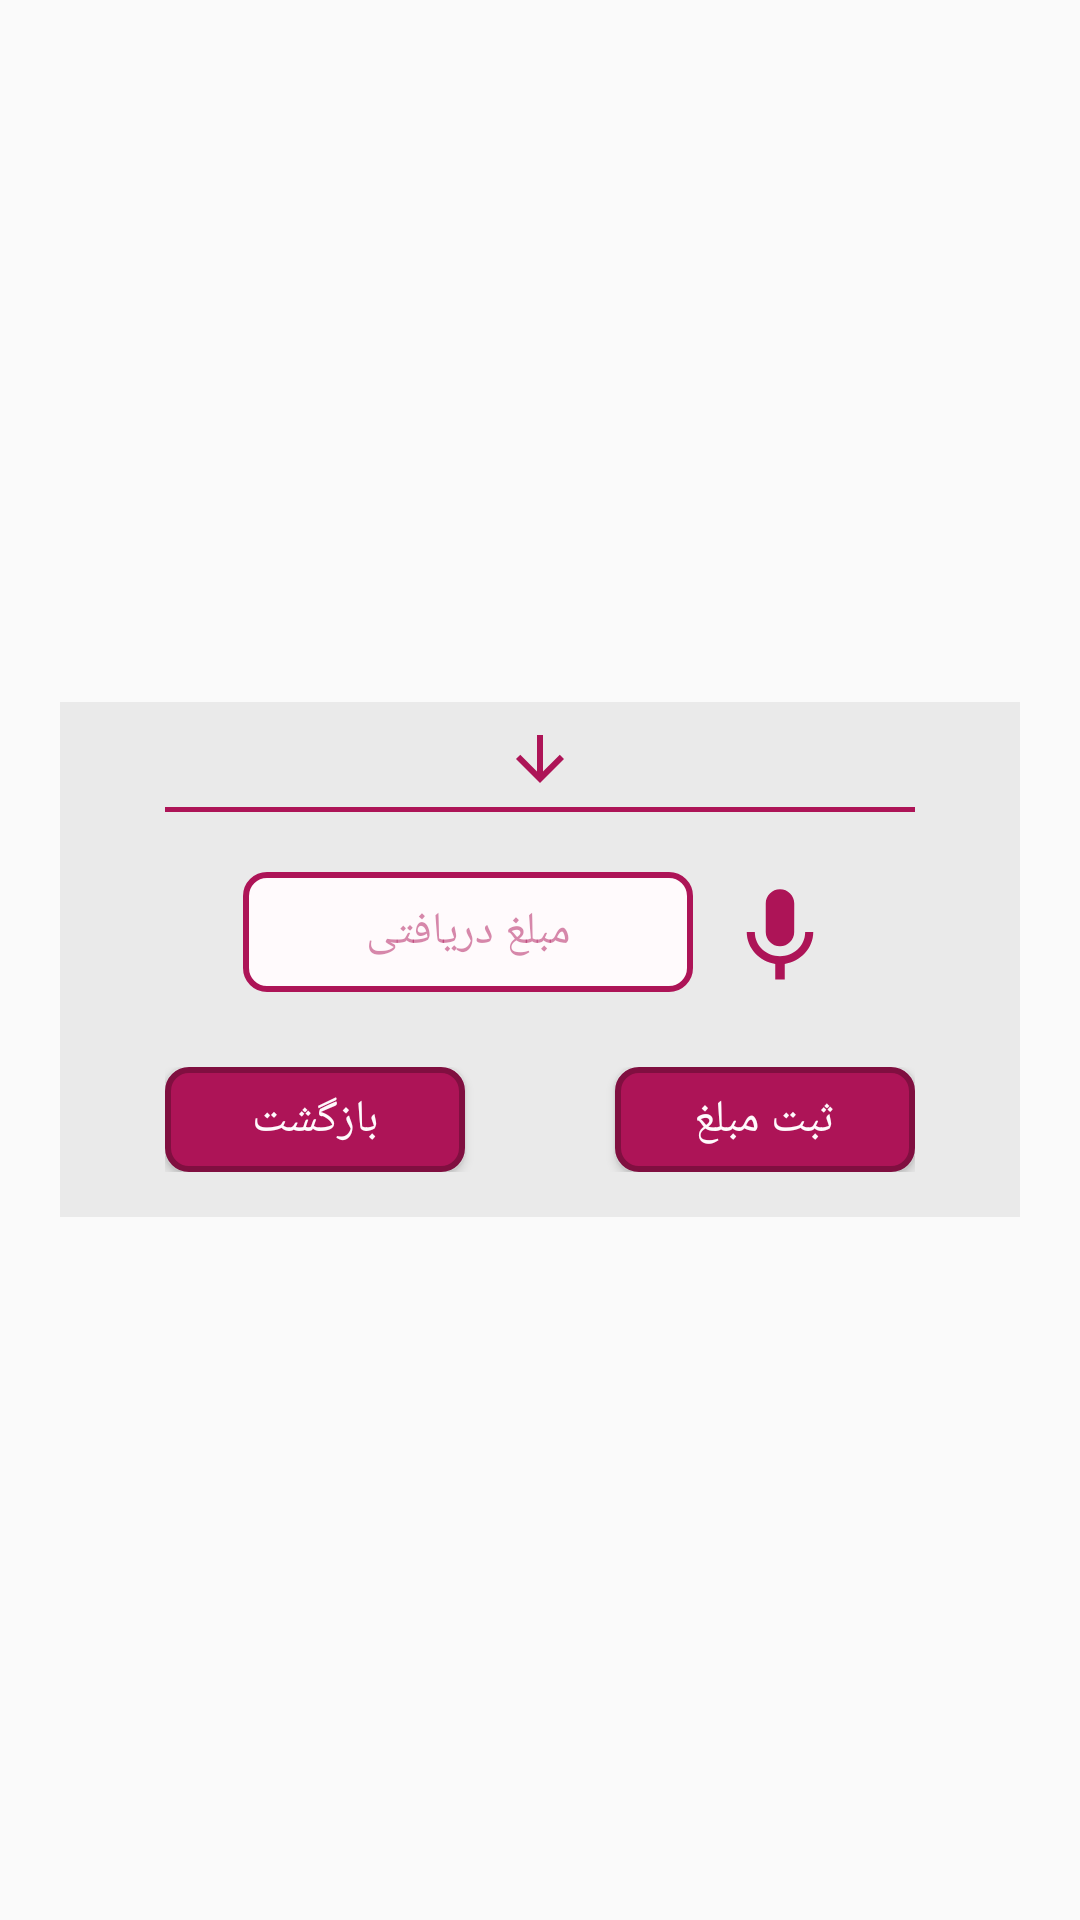

Where icons sit on this 1080px×1920px app screen, as {"x1": x1, "y1": y1, "x2": x2, "y2": y2}:
voice: {"x1": 746, "y1": 889, "x2": 814, "y2": 980}
